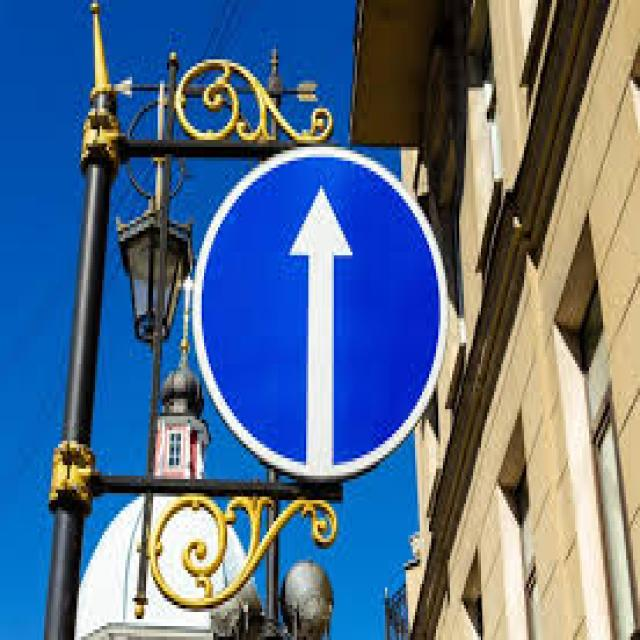STRAIGHT: (192, 147, 448, 476)
